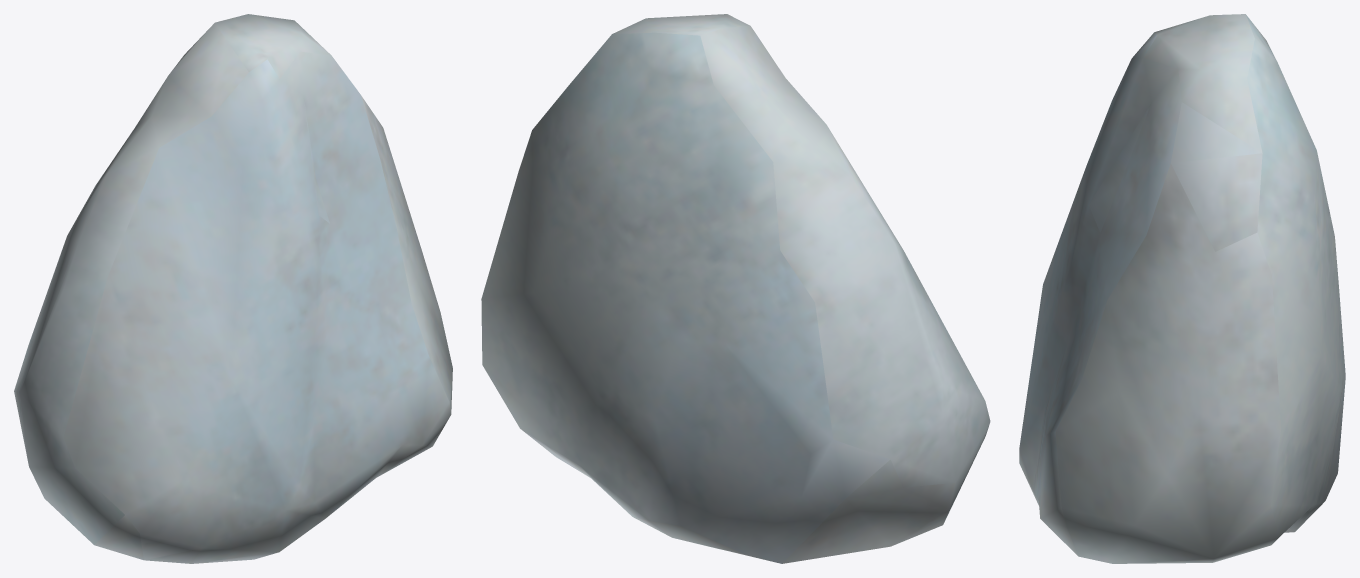
Rendered from P_BoulderClassic4.obj.
3 renders of one model, left to right at view 1: azimuth 30°, elevation 25°; view 2: azimuth 150°, elevation 25°; view 3: azimuth 270°, elevation 25°, orthographic. The views are drawn at different scales.
Bounding box in the file's own units: 9.29 × 10.46 × 5.75.
